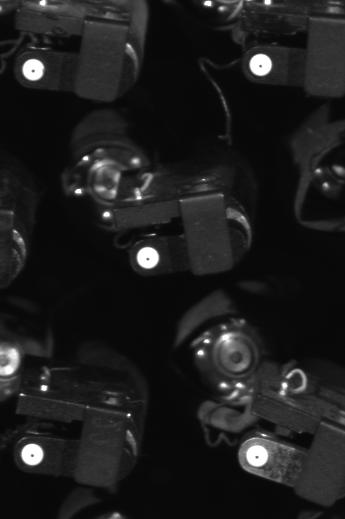fiber: (244, 50, 280, 80), (131, 245, 166, 274), (18, 56, 51, 85), (242, 441, 274, 470), (18, 440, 48, 468)
